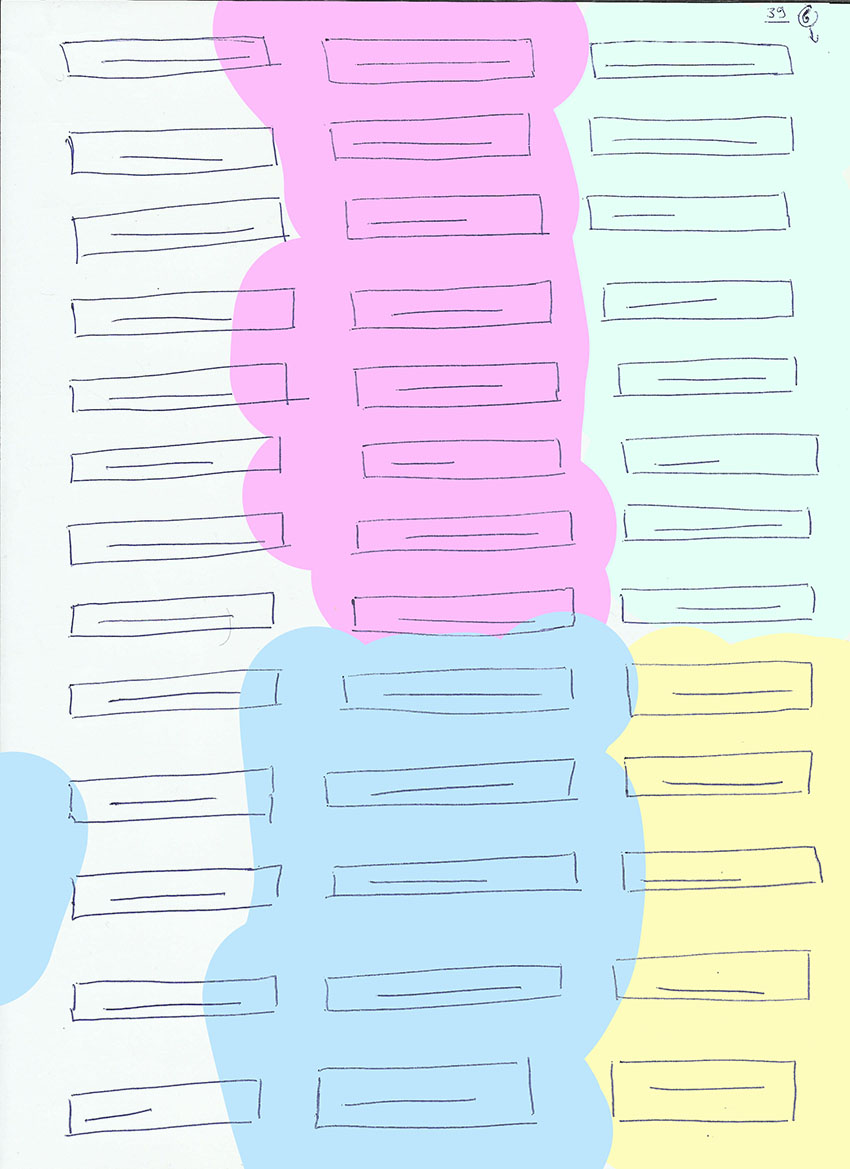edit_text: (312, 1055, 538, 1133), (67, 194, 292, 265), (318, 754, 577, 810), (323, 849, 586, 903), (607, 1054, 799, 1127), (64, 359, 312, 415), (64, 761, 280, 824), (336, 663, 579, 718), (63, 1075, 266, 1140), (64, 510, 295, 566), (68, 862, 283, 922), (346, 585, 580, 640), (321, 961, 566, 1013), (319, 33, 536, 90), (66, 665, 282, 722), (67, 285, 298, 338), (621, 658, 814, 721), (348, 508, 579, 560), (62, 124, 282, 177), (345, 278, 554, 333), (607, 947, 812, 1003), (56, 33, 285, 83), (326, 110, 533, 165), (67, 972, 281, 1025), (66, 434, 287, 485), (64, 590, 276, 642), (350, 359, 562, 410), (619, 846, 826, 897), (342, 193, 549, 244), (618, 431, 823, 480), (620, 749, 816, 800), (583, 112, 795, 159), (357, 436, 568, 483), (594, 277, 796, 324), (587, 37, 796, 81), (583, 190, 792, 234), (616, 583, 818, 627), (619, 500, 816, 544), (611, 355, 800, 399)
